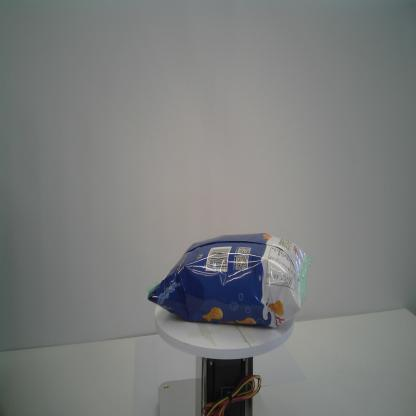Puffed Food: (147, 232, 312, 328)
